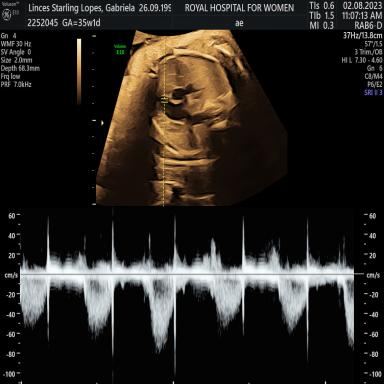Ultrasound-Waves: (27, 210, 354, 384)
